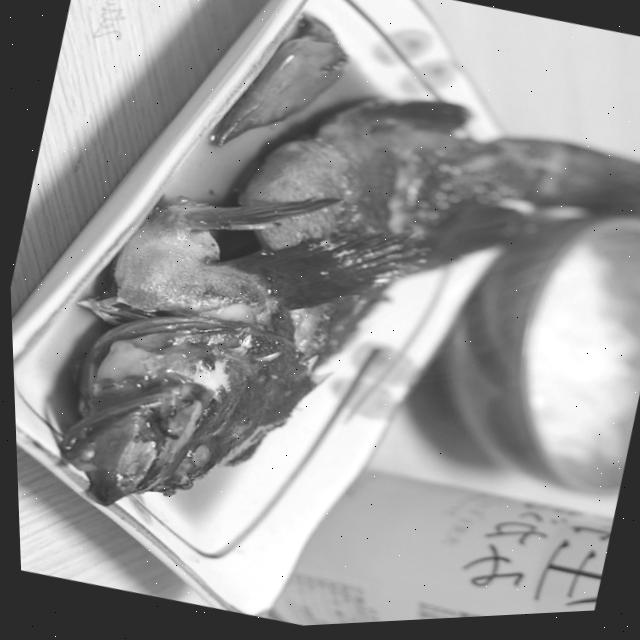熟制海鲜: (1, 1, 640, 640)
